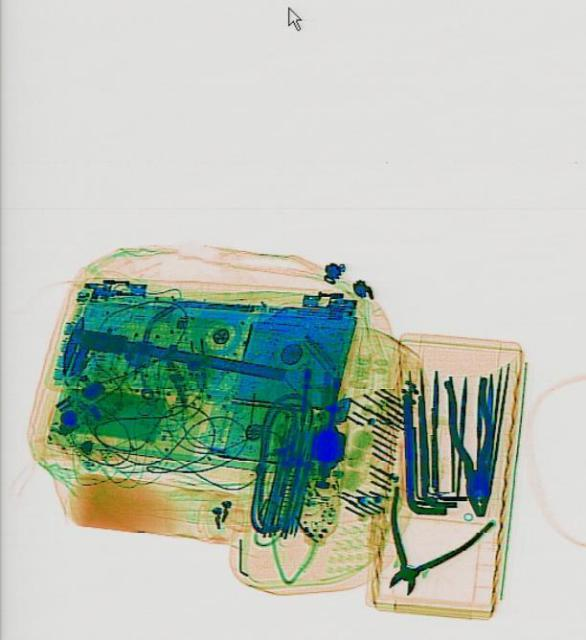Pliers: (356, 480, 493, 616), (440, 372, 501, 516)
